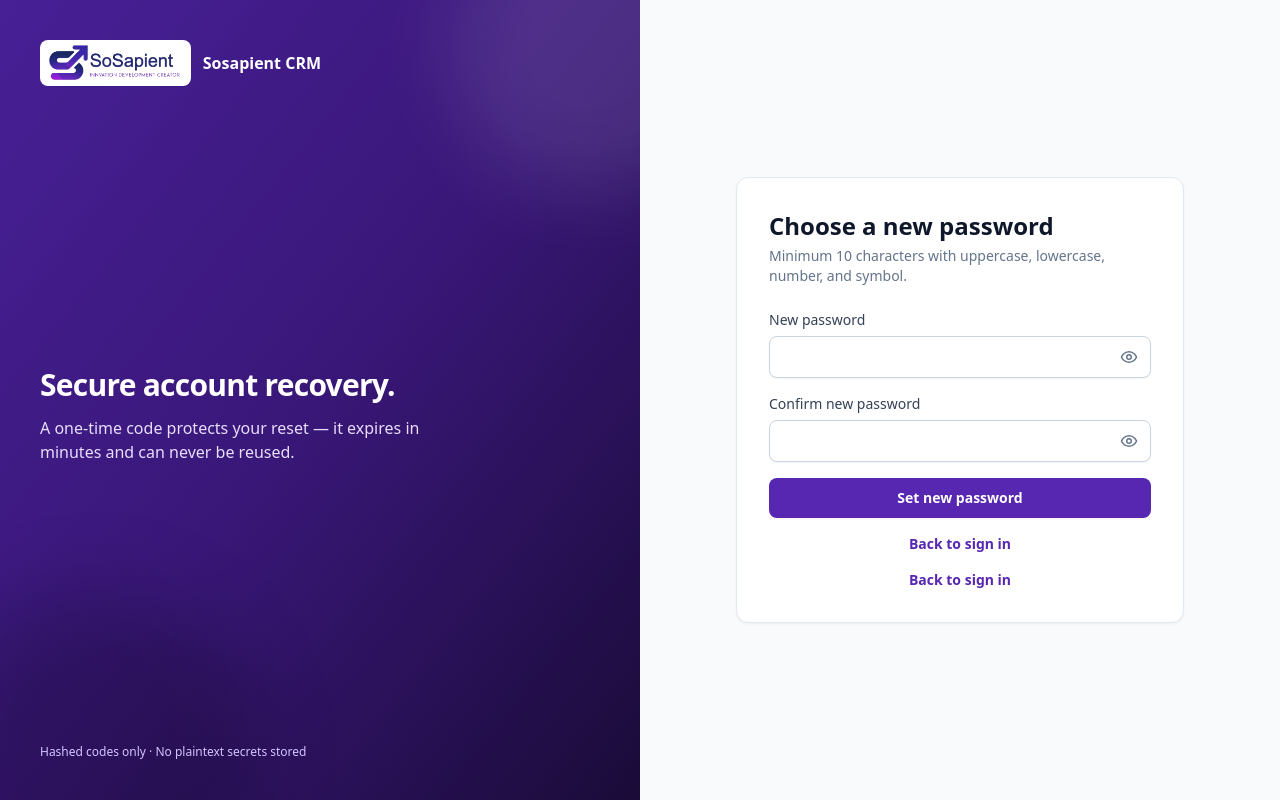
ResetPasswordPage › surfaces expired-token errors from the server
In the password field labelled "New password": (960, 357) [769,336,1151,378], type "N3w!StrongPass9"
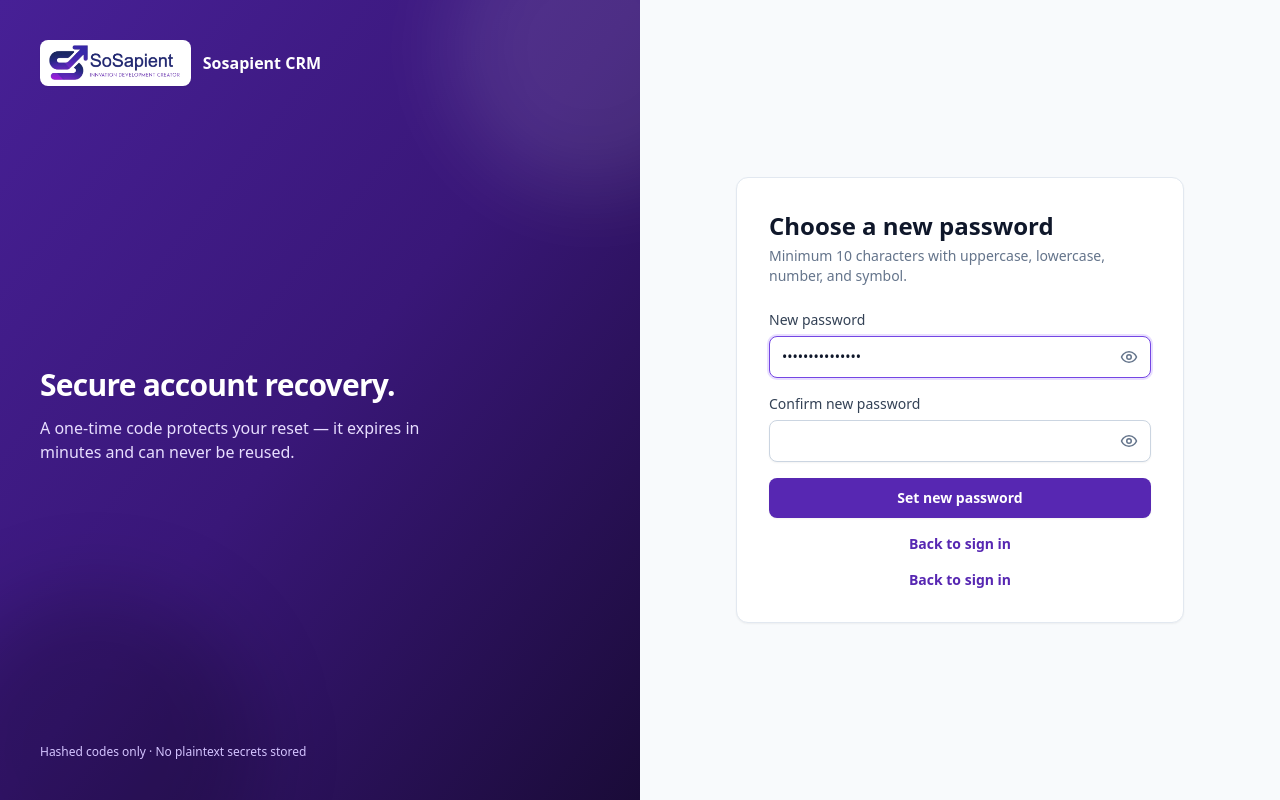
In the password field labelled "Confirm new password": (960, 441) [769,420,1151,462], type "N3w!StrongPass9"
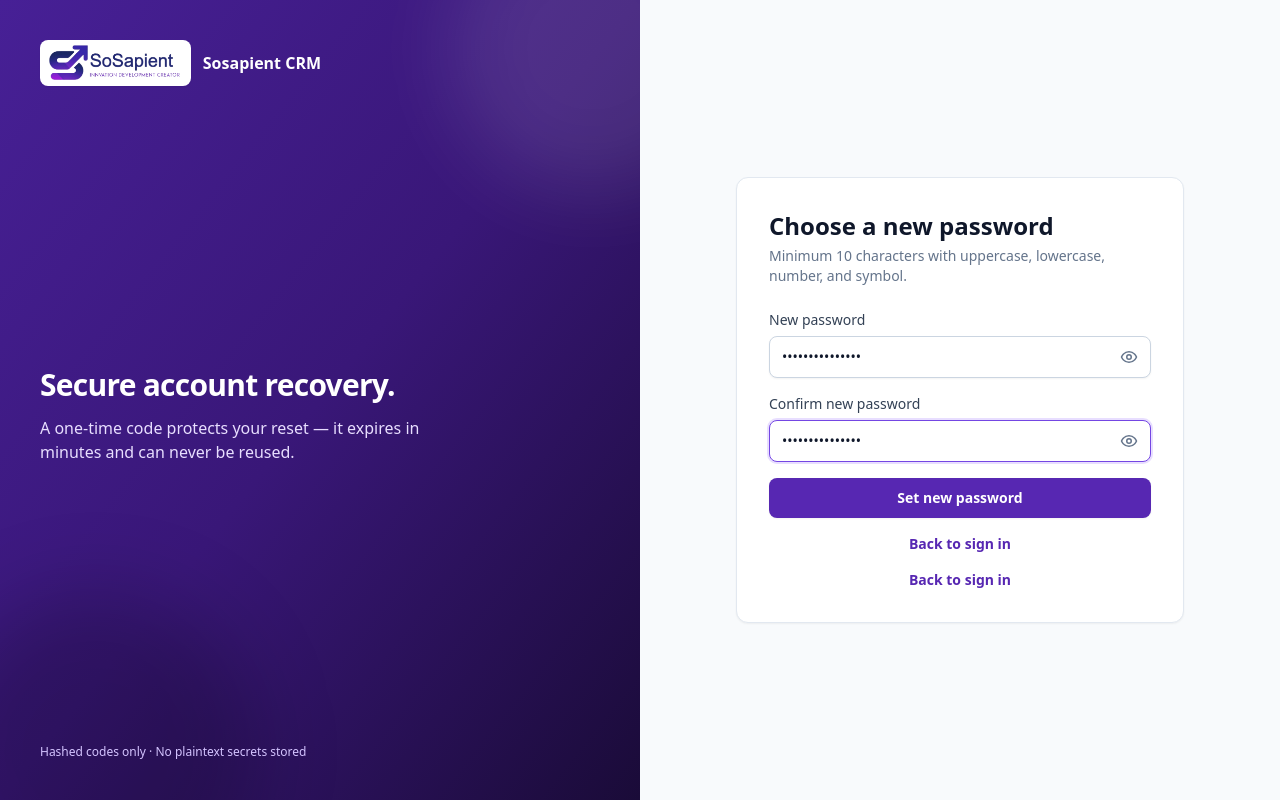
Click the button "Set new password": (960, 498) [769,478,1151,518]
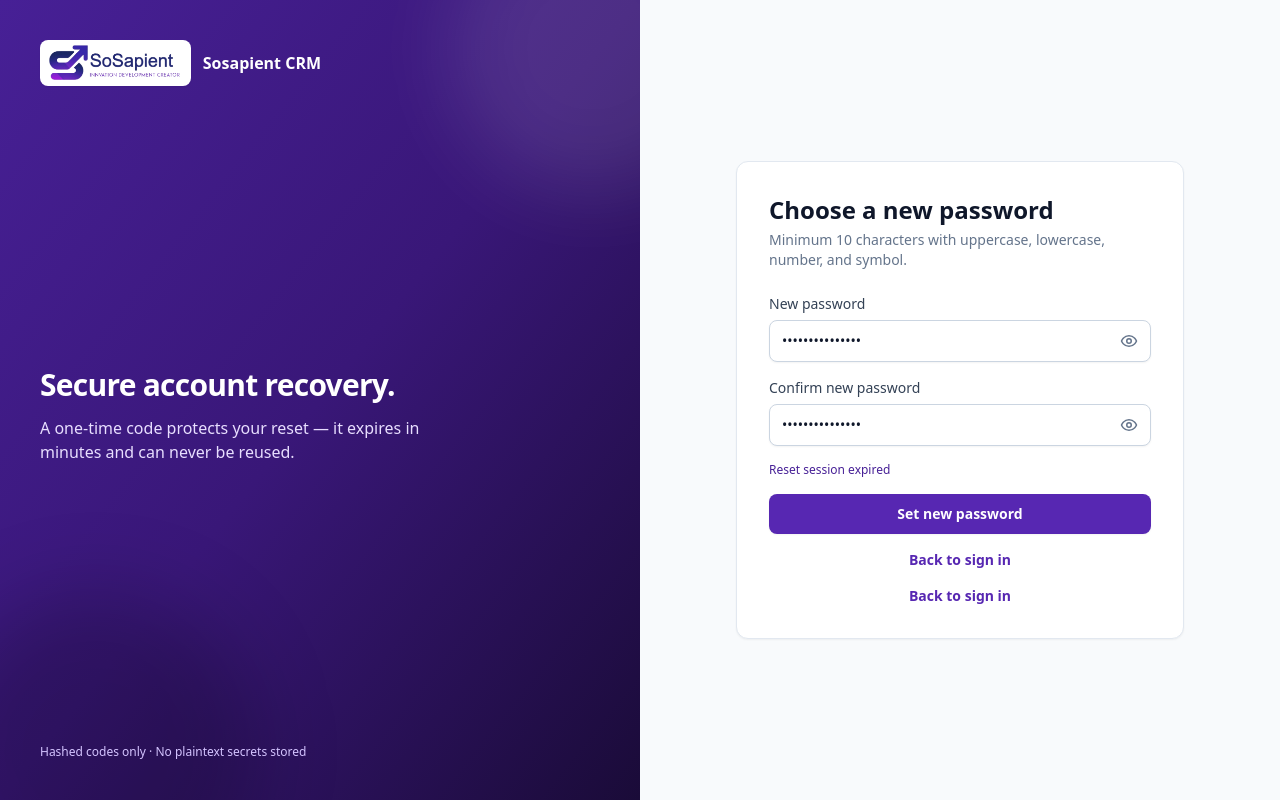
Check: the text "Reset session expired" is shown, box [769,461,890,478]
